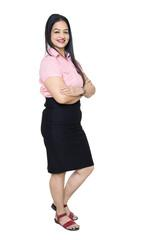Human: (29, 8, 99, 237)
